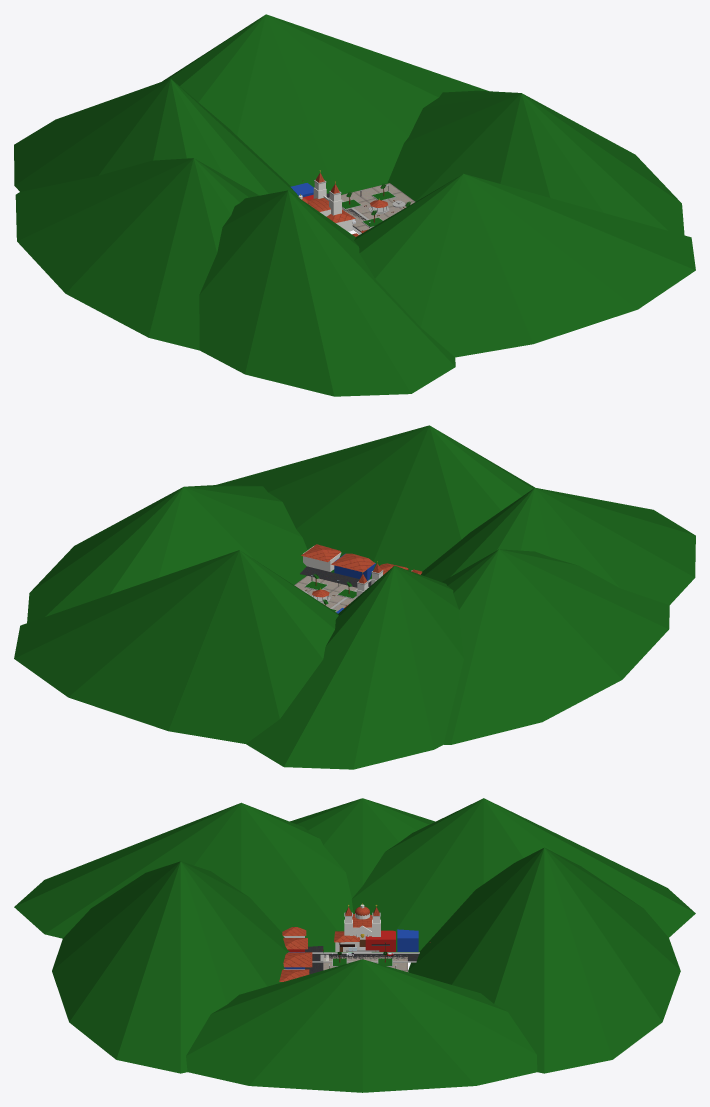
Rendered from esteli_city.obj.
3 renders of one model, top to bottom at view 1: azimuth 30°, elevation 25°; view 2: azimuth 150°, elevation 25°; view 3: azimuth 270°, elevation 25°, orthographic. The views are drawn at different scales.
Parts seen in each view (by area): view 1: Mountain_Tisey.004, Mountain_Tisey.002, Mountain_Tisey.003, Mountain_Tisey, Mountain_Tisey.005, Mountain_Tisey.001, Park_Ground; view 2: Mountain_Tisey.003, Mountain_Tisey, Mountain_Tisey.001, Mountain_Tisey.004, Mountain_Tisey.005, Mountain_Tisey.002, Park_Ground, Cross_Street_Asphalt; view 3: Mountain_Tisey.003, Mountain_Tisey.005, Mountain_Tisey.004, Mountain_Tisey.002, Mountain_Tisey.001, Mountain_Tisey, Park_Ground, Colonial_Building_Esteli, Cube.071.
Part boxes in pixels (left/top/right/bottom): Mountain_Tisey.004: left=354, top=173, right=695, bottom=357; Mountain_Tisey.002: left=199, top=190, right=455, bottom=396; Mountain_Tisey.003: left=162, top=14, right=488, bottom=194; Mountain_Tisey: left=15, top=158, right=258, bottom=350; Mountain_Tisey.005: left=387, top=90, right=684, bottom=235; Mountain_Tisey.001: left=14, top=78, right=298, bottom=197; Park_Ground: left=341, top=183, right=415, bottom=231; Mountain_Tisey.003: left=14, top=550, right=338, bottom=743; Mountain_Tisey: left=441, top=549, right=669, bottom=744; Mountain_Tisey.001: left=246, top=565, right=463, bottom=769; Mountain_Tisey.004: left=216, top=425, right=534, bottom=580; Mountain_Tisey.005: left=27, top=484, right=307, bottom=622; Mountain_Tisey.002: left=421, top=487, right=695, bottom=605; Park_Ground: left=294, top=575, right=357, bottom=611; Cross_Street_Asphalt: left=300, top=566, right=371, bottom=587; Mountain_Tisey.003: left=408, top=847, right=680, bottom=1073; Mountain_Tisey.005: left=186, top=959, right=537, bottom=1092; Mountain_Tisey.004: left=52, top=861, right=289, bottom=1073; Mountain_Tisey.002: left=14, top=802, right=353, bottom=952; Mountain_Tisey.001: left=351, top=798, right=695, bottom=952; Mountain_Tisey: left=290, top=798, right=435, bottom=898; Park_Ground: left=323, top=955, right=407, bottom=971; Colonial_Building_Esteli: left=365, top=930, right=395, bottom=951; Cube.071: left=397, top=929, right=418, bottom=951.
Bounding box in the file's own units: 400 × 90 × 450.
